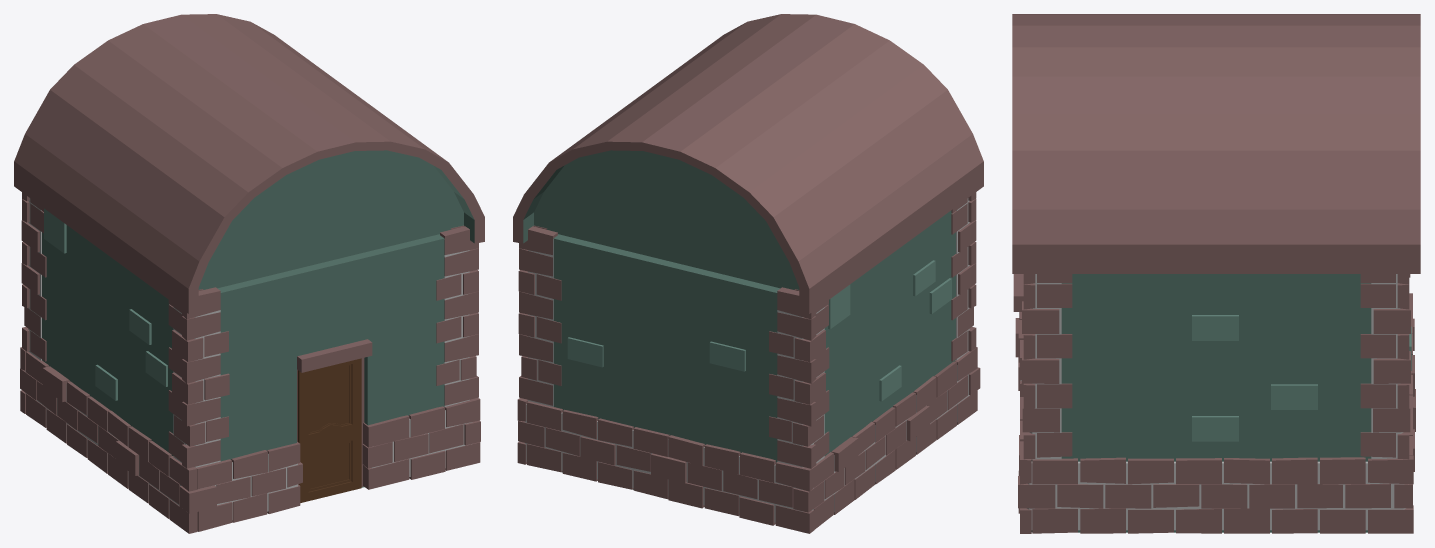
Rendered from 1Story_RoundRoof_Mat.glb.
The picture shows the model from 3 angles, left to right: view 1: azimuth 30°, elevation 25°; view 2: azimuth 150°, elevation 25°; view 3: azimuth 270°, elevation 25°; orthographic projection. The views are drawn at different scales.
Visible parts, largest first — view 1: 1Story_RoundRoof_Mat; view 2: 1Story_RoundRoof_Mat; view 3: 1Story_RoundRoof_Mat.
Part boxes in pixels (x1,y1,x2,y2): 1Story_RoundRoof_Mat: (14, 14, 484, 533); 1Story_RoundRoof_Mat: (513, 14, 983, 533); 1Story_RoundRoof_Mat: (1012, 14, 1420, 533).
Size of the model in its own units: 1.67 by 1.91 by 1.7.
